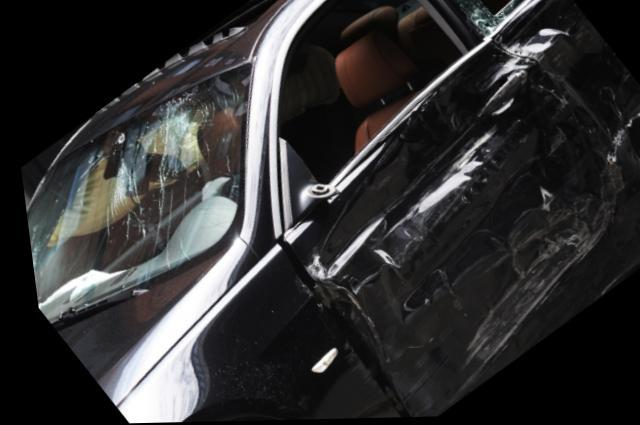dent: (303, 45, 617, 408)
glass shatter: (21, 62, 250, 323)
